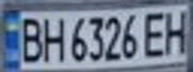2: (103, 11, 124, 62)
3: (84, 12, 106, 63)
6: (121, 10, 145, 61), (66, 12, 90, 63)
B: (15, 14, 45, 63)
E: (139, 7, 172, 57)
H: (160, 6, 193, 55), (39, 14, 66, 63)
